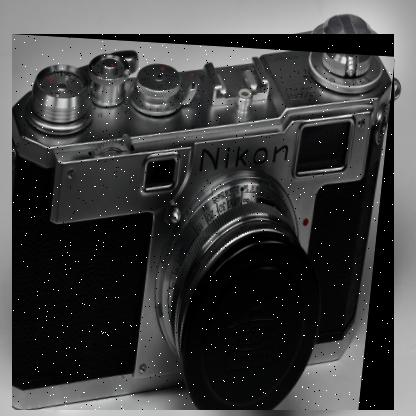Camera: (13, 35, 396, 412)
